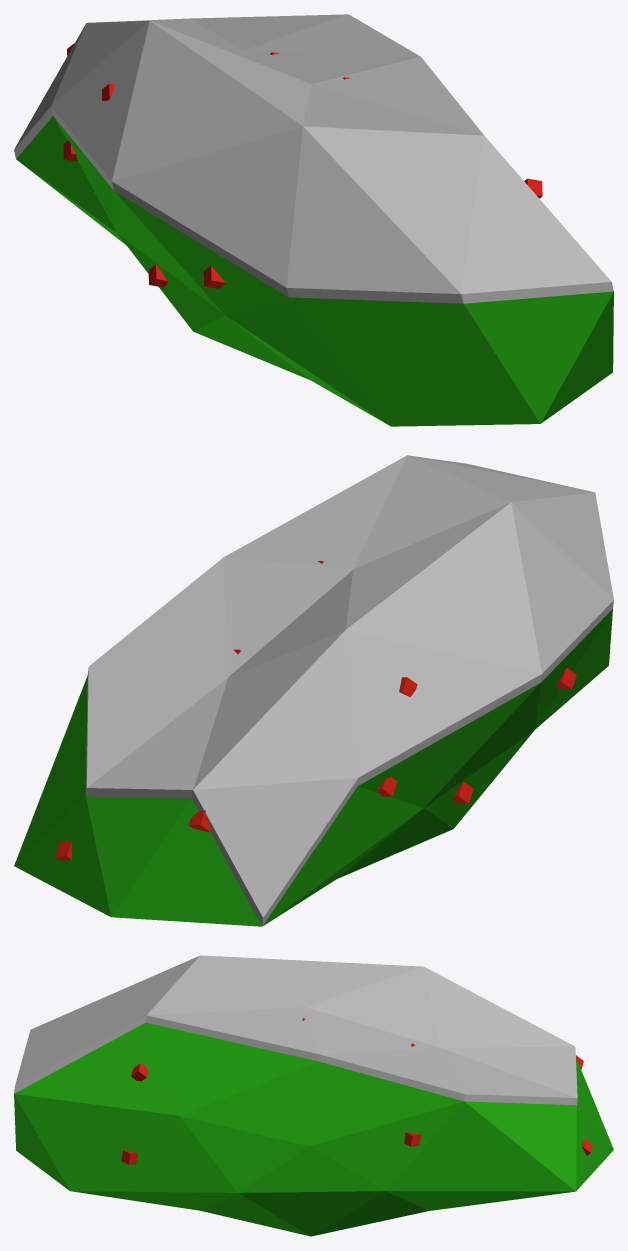
Rendered from Bush_2 Winter.fbx.
The picture shows the model from 3 angles, top to bottom: view 1: azimuth 30°, elevation 25°; view 2: azimuth 150°, elevation 25°; view 3: azimuth 270°, elevation 25°; orthographic projection. The views are drawn at different scales.
Visible parts, largest first — view 1: Bush2Winter_mesh; view 2: Bush2Winter_mesh; view 3: Bush2Winter_mesh.
Part boxes in pixels (x1,y1,x2,y2): Bush2Winter_mesh: (14,14,613,426); Bush2Winter_mesh: (14,455,613,926); Bush2Winter_mesh: (14,955,613,1236).
Size of the model in its own units: 165 by 124 by 328.
